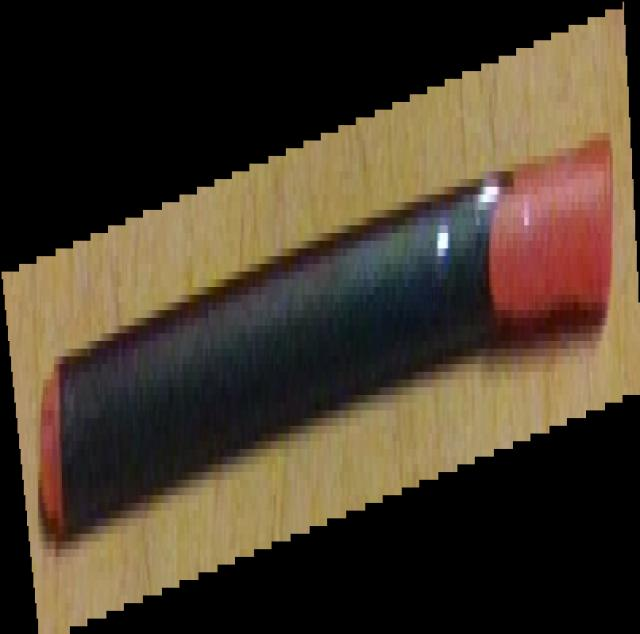red: (1, 1, 640, 634)
